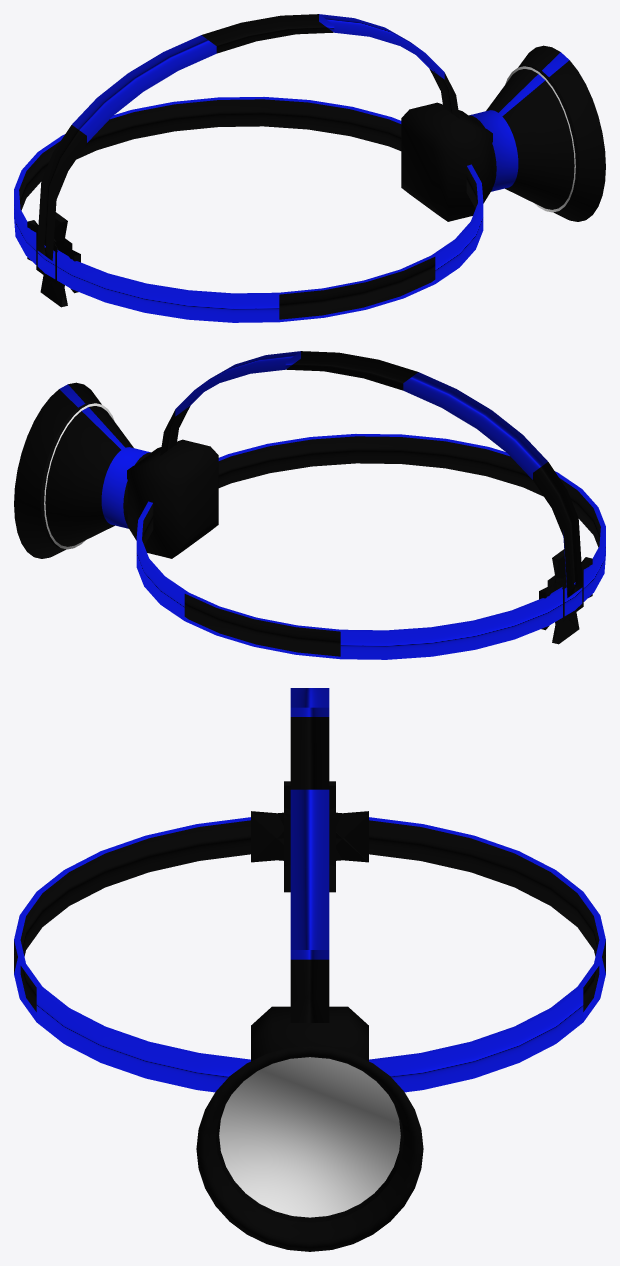
File: flashlight.fbx
The picture shows the model from 3 angles, top to bottom: view 1: azimuth 30°, elevation 25°; view 2: azimuth 150°, elevation 25°; view 3: azimuth 270°, elevation 25°; orthographic projection. The views are drawn at different scales.
Parts seen in each view (by area): view 1: Cylinder, Cylinder.002, Cylinder.001, Cube, Cube.001; view 2: Cylinder, Cylinder.002, Cylinder.001, Cube, Cube.001; view 3: Cylinder.002, Cylinder, Cylinder.001, Cube.001, Cube.
Boxes of the visible parts, bbox=[...] form: Cylinder: bbox=[14, 97, 483, 322]; Cylinder.002: bbox=[468, 45, 605, 221]; Cylinder.001: bbox=[37, 14, 459, 260]; Cube: bbox=[401, 102, 492, 221]; Cube.001: bbox=[27, 212, 80, 307]; Cylinder: bbox=[136, 434, 605, 659]; Cylinder.002: bbox=[14, 382, 151, 558]; Cylinder.001: bbox=[160, 351, 582, 597]; Cube: bbox=[127, 439, 218, 558]; Cube.001: bbox=[539, 549, 592, 644]; Cylinder.002: bbox=[196, 1046, 423, 1251]; Cylinder: bbox=[14, 817, 605, 1092]; Cylinder.001: bbox=[290, 688, 329, 1022]; Cube.001: bbox=[251, 781, 368, 892]; Cube: bbox=[251, 1006, 368, 1061].
Size of the model in its own units: 1274 by 622 by 1006.
